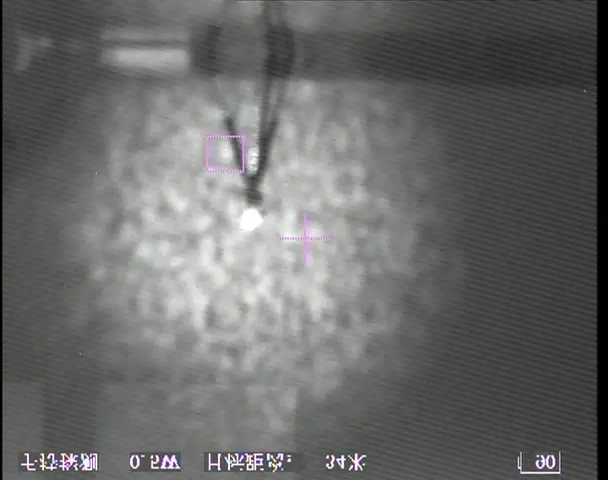my: (237, 204, 264, 234)
